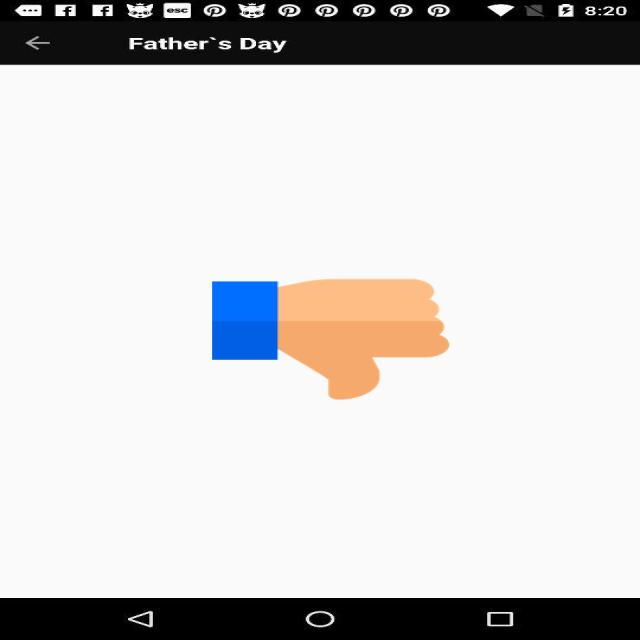obstruction: (212, 276, 449, 403)
